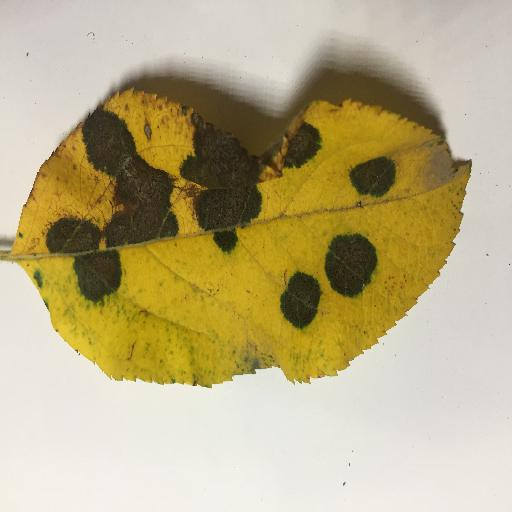Brown_Spot: (28, 124, 318, 211), (38, 216, 139, 248), (325, 236, 368, 283), (68, 257, 117, 293), (354, 155, 398, 193), (284, 285, 312, 324)
